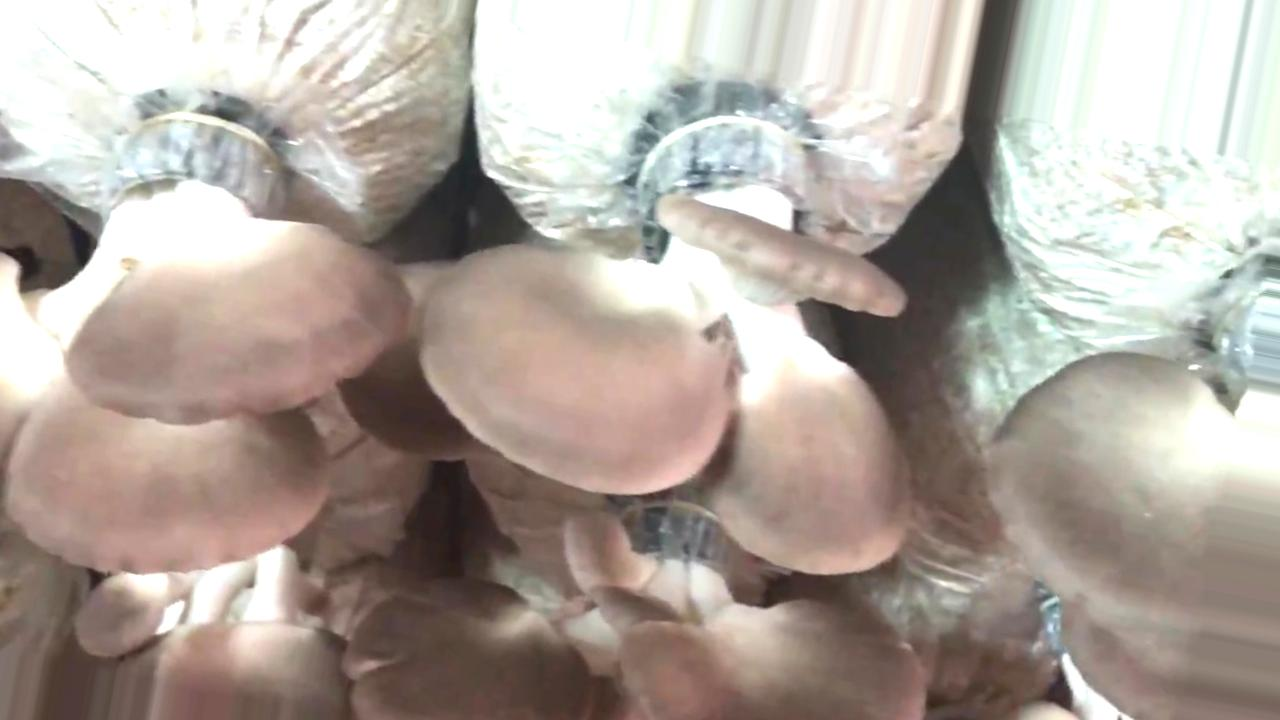nam: (423, 117, 910, 573), (1, 78, 411, 575), (998, 238, 1280, 719), (346, 485, 920, 720), (75, 535, 355, 720)
